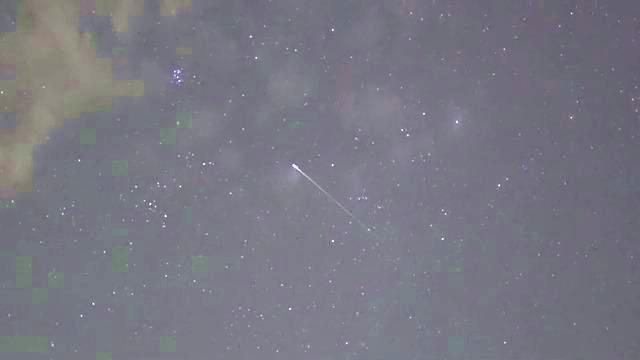meteorite: (273, 155, 380, 236)
